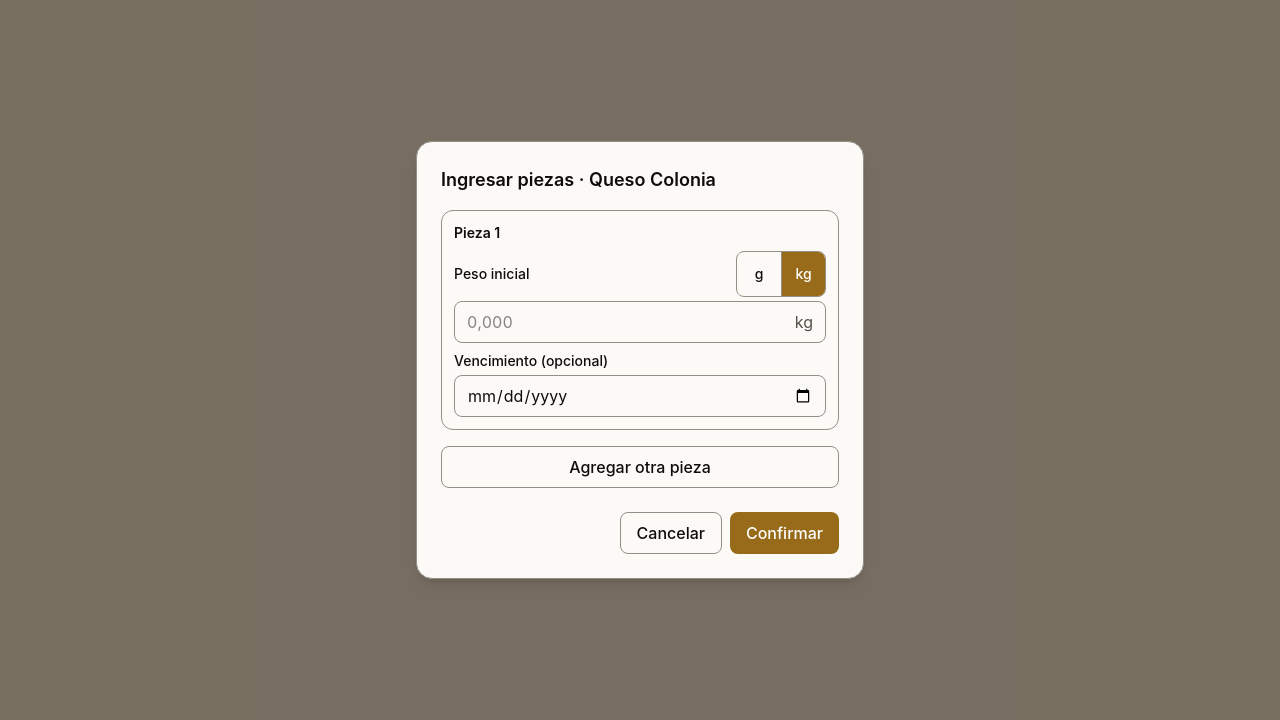
Scenario: ModalIngresarPiezas › "Agregar otra pieza" agrega una fila; "Quitar" la elimina
What coordinates should you click on to do the following:
click the button "Agregar otra pieza"
I would click on:
 (640, 467)
Its box is [441,446,839,488].
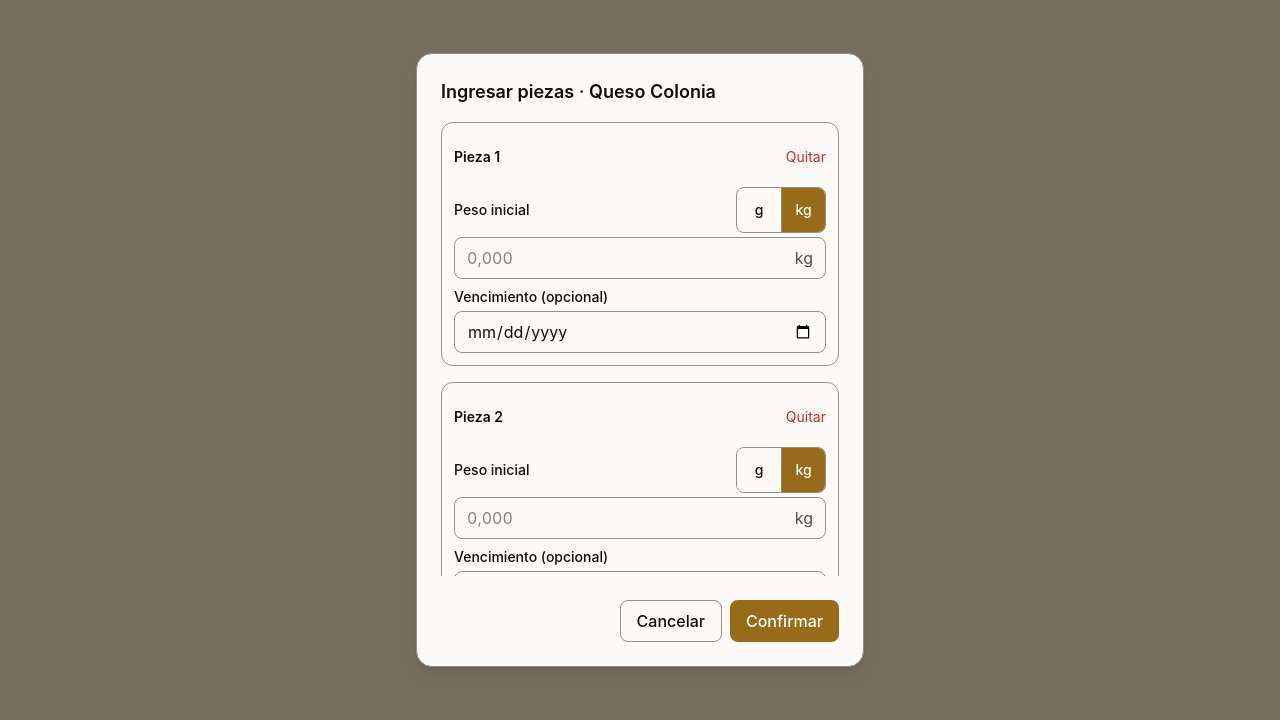
Expected: the text "Pieza 2" is shown, [454,407,503,427]
What coordinates should you click on to do the following:
click the button with aria-label "Quitar pieza 2"
I would click on:
 (806, 417)
Its box is [786,395,826,439].
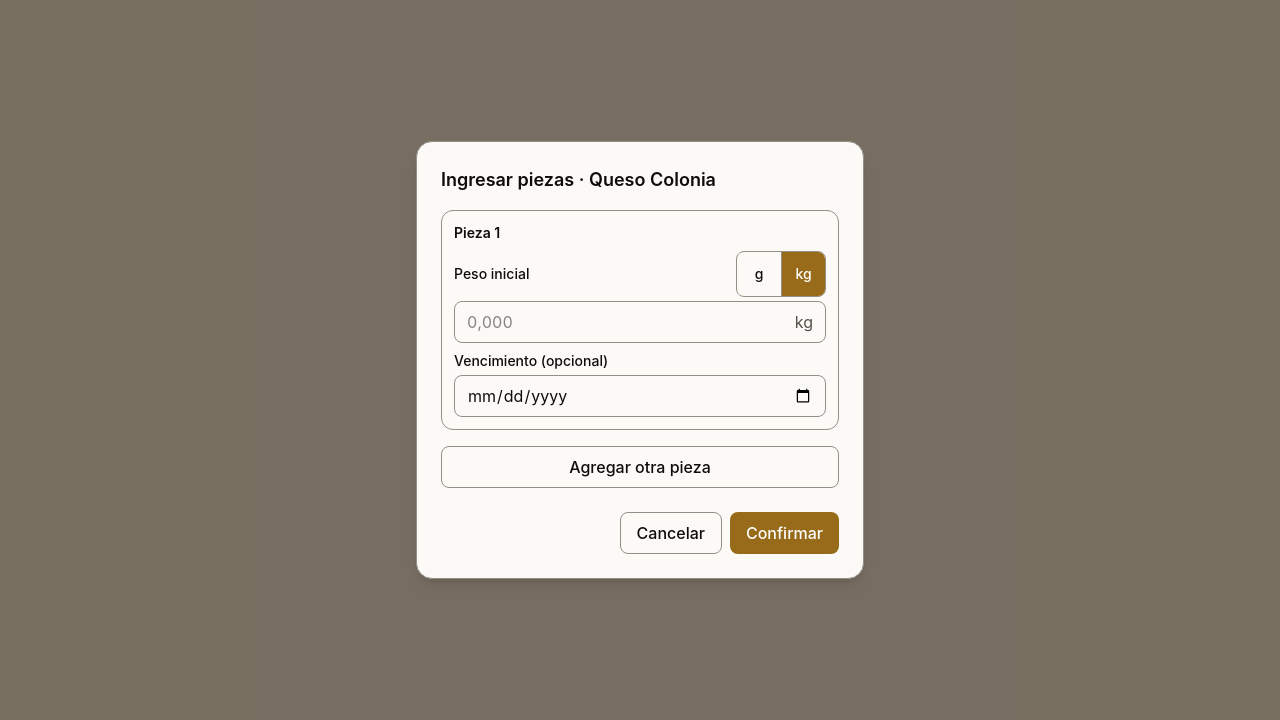
Expected: the text "Pieza 2" is gone
